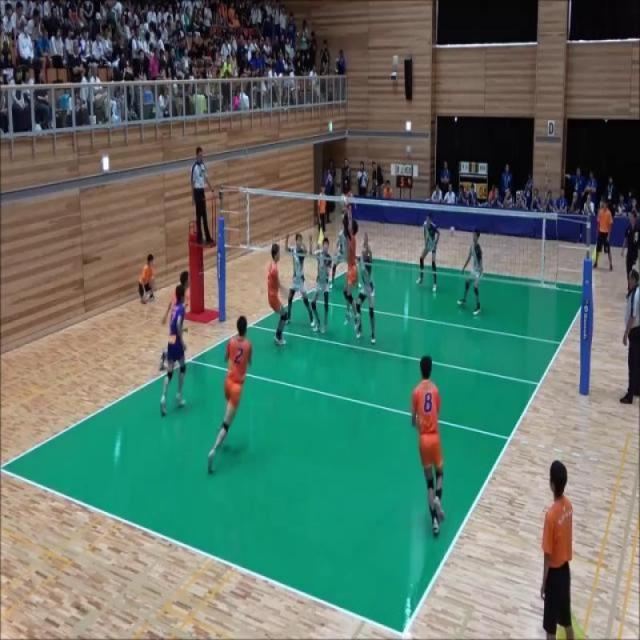volleyball: (340, 193, 348, 208), (450, 226, 454, 235)
